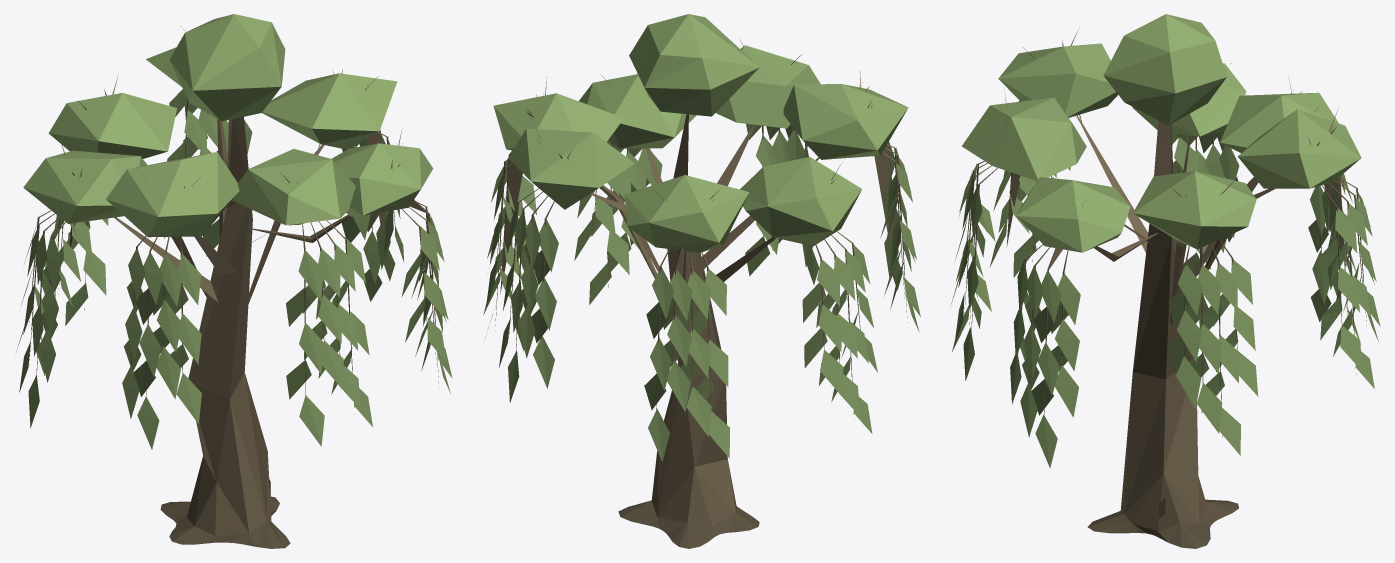
File: willow_spring.glb
3 views of the same model, side by side, from view 1: azimuth 30°, elevation 25°; view 2: azimuth 150°, elevation 25°; view 3: azimuth 270°, elevation 25° (orthographic).
Visible parts, largest first — view 1: leaves, branches; view 2: leaves, branches; view 3: leaves, branches.
Part boxes in pixels (x1,y1,x2,y2): leaves: (16,14,452,449); branches: (28,22,439,548); leaves: (483,14,920,461); branches: (495,39,907,548); leaves: (951,14,1380,468); branches: (963,27,1366,548).
Bounding box in the file's own units: 3.6 × 4.6 × 3.54.
